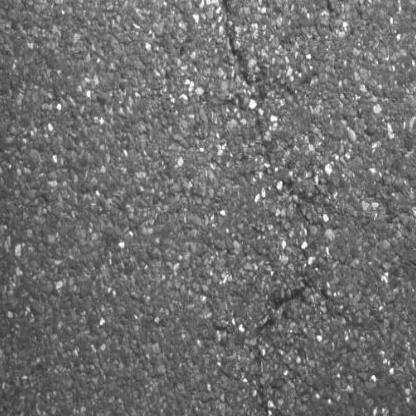Cracks: (202, 0, 323, 416)
